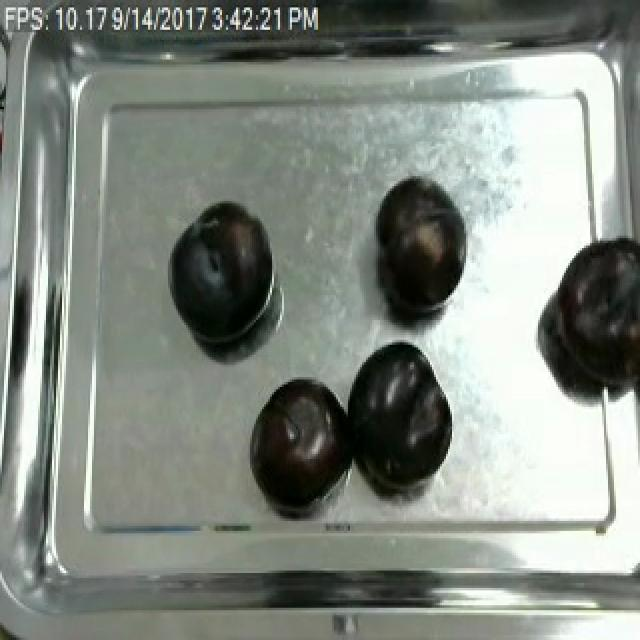Fruit: (338, 332, 456, 492), (164, 206, 272, 352), (548, 233, 640, 397), (370, 174, 472, 318), (248, 375, 346, 506)
